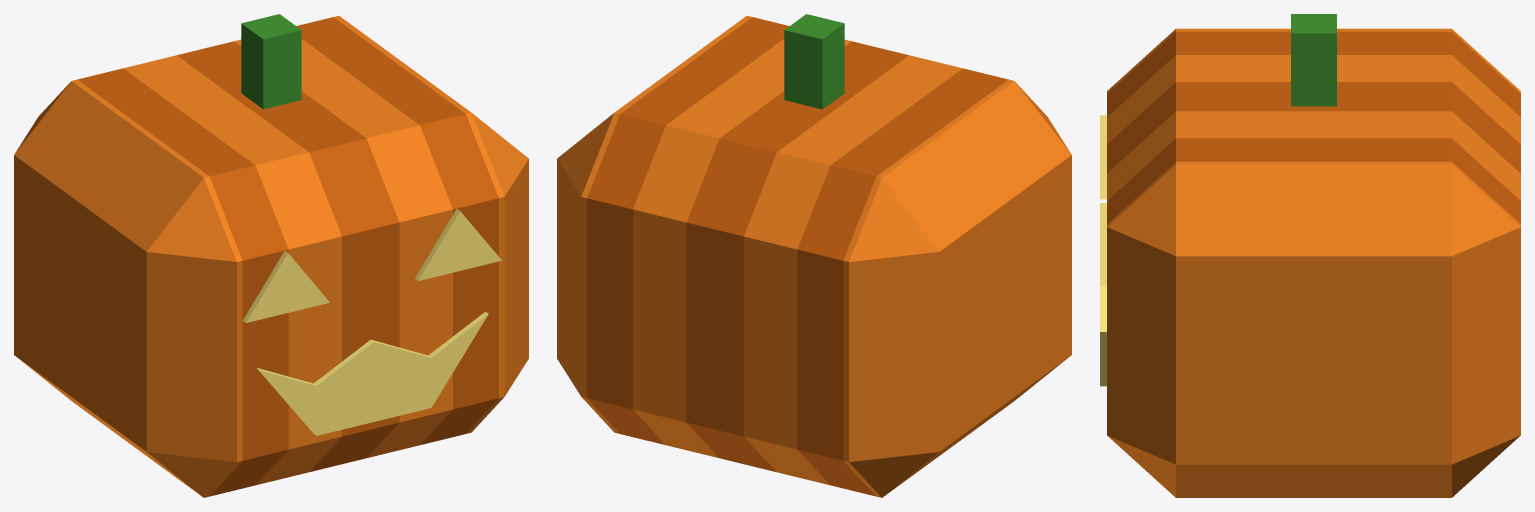
The model's file is JackOLantern.fbx.
3 views of the same model, side by side, from view 1: azimuth 30°, elevation 25°; view 2: azimuth 150°, elevation 25°; view 3: azimuth 270°, elevation 25° (orthographic). The views are drawn at different scales.
Visible parts, largest first — view 1: JackOLantern; view 2: JackOLantern; view 3: JackOLantern.
Boxes of the visible parts, box(x1,y1,x2,y2) form: JackOLantern: box(14, 14, 528, 497); JackOLantern: box(557, 14, 1071, 497); JackOLantern: box(1100, 14, 1520, 497).
Bounding box in the file's own units: 2 × 1.95 × 1.83.
Materials: 1 (1 with a texture image).
